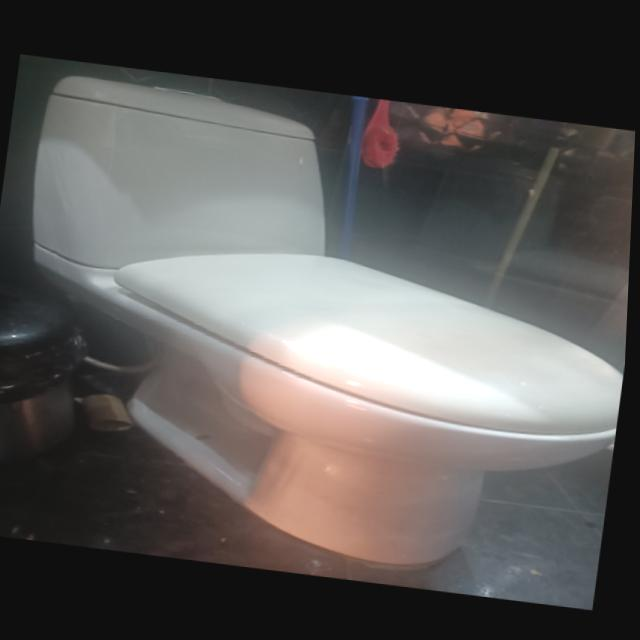toilet: (0, 68, 638, 586)
